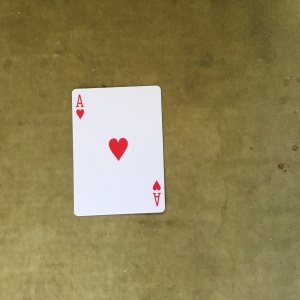card: (69, 84, 168, 216)
